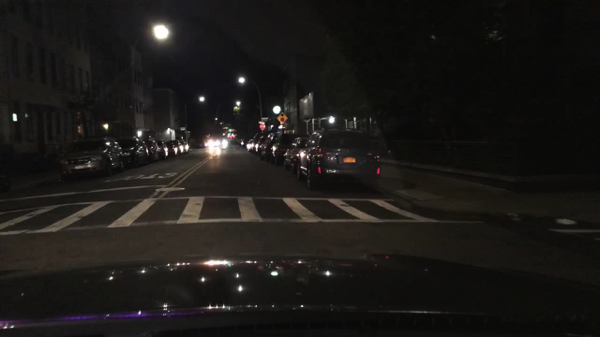car: (295, 128, 381, 191), (59, 135, 124, 181), (116, 136, 148, 167), (283, 136, 308, 174), (269, 133, 296, 167), (264, 132, 280, 159), (144, 138, 160, 163), (245, 133, 263, 152), (255, 132, 269, 155), (156, 140, 169, 159), (166, 140, 181, 156), (179, 140, 190, 152), (194, 140, 207, 149), (208, 139, 220, 148), (240, 137, 250, 147), (217, 139, 228, 147), (236, 137, 242, 144), (228, 135, 235, 139)
traffic sign: (275, 113, 288, 123), (260, 124, 265, 132), (179, 127, 186, 132), (257, 121, 267, 124)
